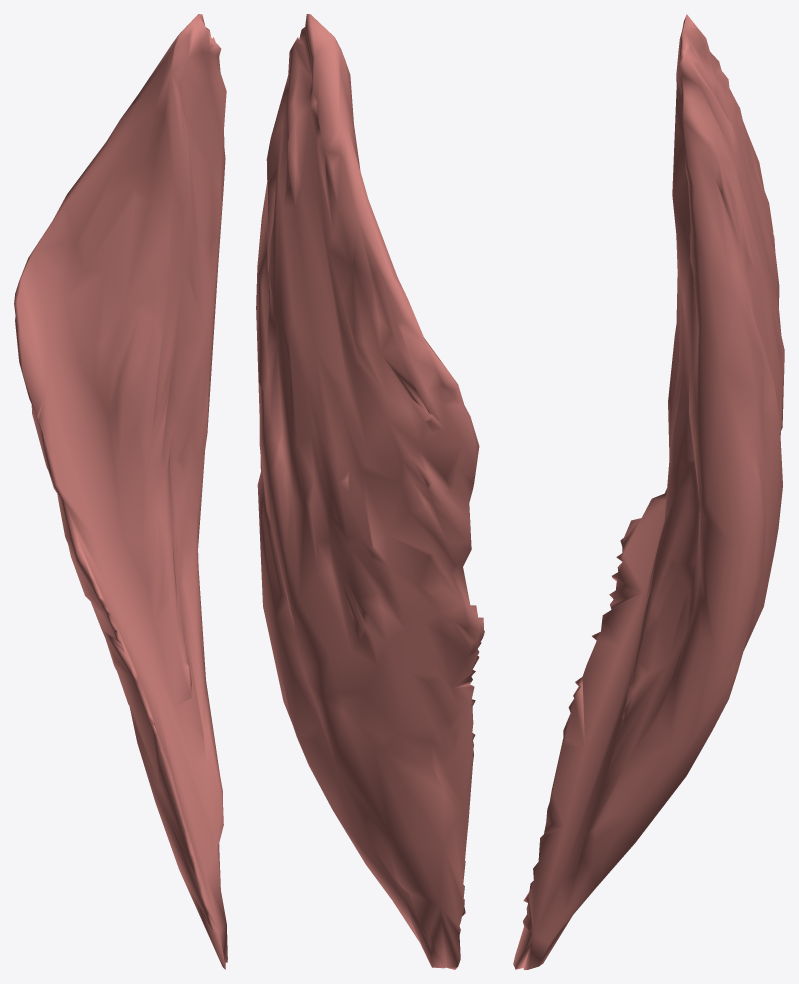
3 views of the same model, side by side, from view 1: azimuth 30°, elevation 25°; view 2: azimuth 150°, elevation 25°; view 3: azimuth 270°, elevation 25° (orthographic). The views are drawn at different scales.
Parts seen in each view (by area): view 1: ZA_336c80450ab61c6a; view 2: ZA_336c80450ab61c6a; view 3: ZA_336c80450ab61c6a.
Part boxes in pixels (left/top/right/bottom): ZA_336c80450ab61c6a: left=14, top=14, right=227, bottom=969; ZA_336c80450ab61c6a: left=256, top=14, right=484, bottom=969; ZA_336c80450ab61c6a: left=513, top=14, right=784, bottom=969.
Bounding box in the file's own units: 0.0238 × 0.1046 × 0.0262.
